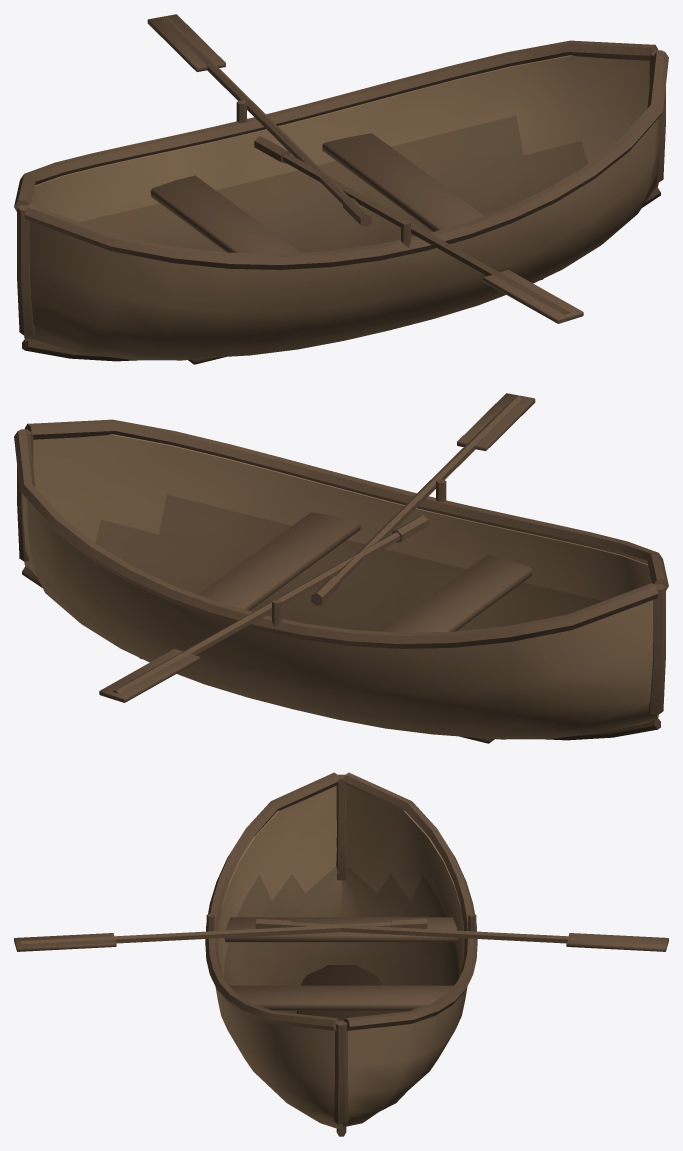
File: Rowboat.glb
3 renders of one model, top to bottom at view 1: azimuth 30°, elevation 25°; view 2: azimuth 150°, elevation 25°; view 3: azimuth 270°, elevation 25°, orthographic. The views are drawn at different scales.
Visible parts, largest first — view 1: Rowboat; view 2: Rowboat; view 3: Rowboat.
Part boxes in pixels (left/top/right/bottom): Rowboat: left=14, top=14, right=668, bottom=364; Rowboat: left=14, top=393, right=668, bottom=743; Rowboat: left=14, top=772, right=668, bottom=1136.
Bounding box in the file's own units: 3.67 × 1.08 × 4.05.
